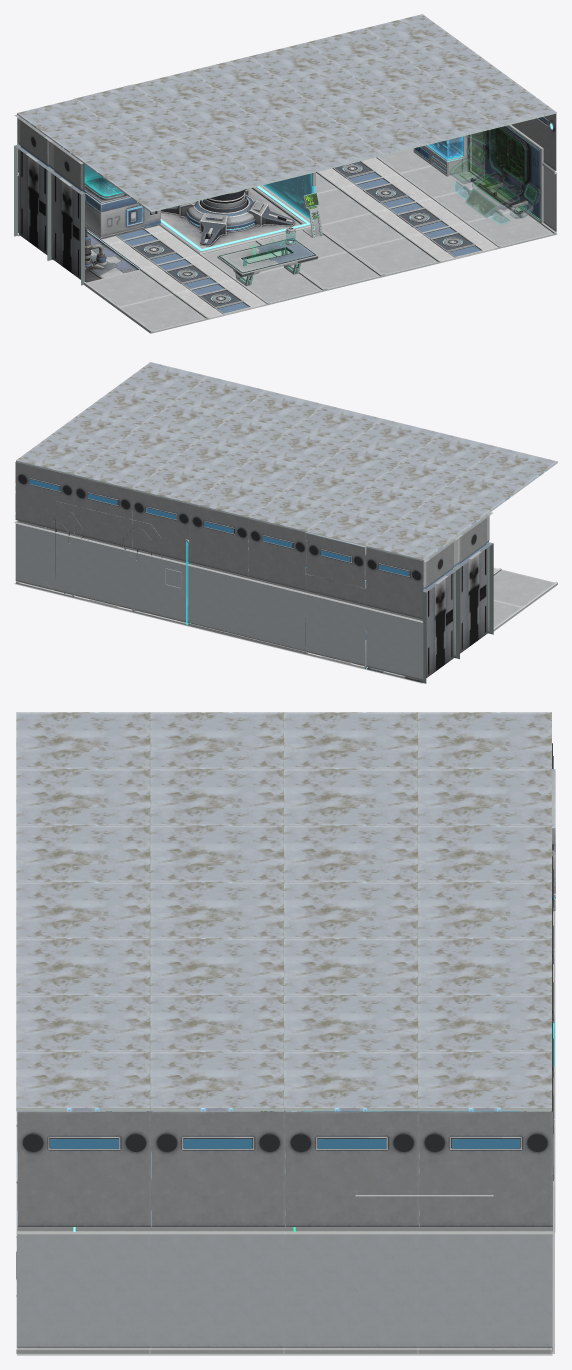
File: sci-fi_lab.glb
3 renders of one model, top to bottom at view 1: azimuth 30°, elevation 25°; view 2: azimuth 150°, elevation 25°; view 3: azimuth 270°, elevation 25°, orthographic. The views are drawn at different scales.
Visible parts, largest first — view 1: Object_15, Object_29, Object_4, Object_8, Object_3, Object_2, Object_11, Object_18, Object_12, Object_14, Object_5, Object_16 (+7 smaller); view 2: Object_15, Object_27, Object_30, Object_8, Object_29, Object_5, Object_18, Object_9, Object_12; view 3: Object_15, Object_27, Object_30, Object_29.
Boxes of the visible parts, x1,y1,x2,y2 form: Object_15: (17,14,556,212); Object_29: (84,148,556,333); Object_4: (87,157,498,319); Object_8: (14,144,140,285); Object_3: (449,126,540,224); Object_2: (470,124,543,223); Object_11: (161,189,294,246); Object_18: (73,84,160,239); Object_12: (159,185,310,254); Object_14: (217,238,318,286); Object_5: (14,114,85,193); Object_16: (413,134,471,176); Object_15: (16,362,557,561); Object_27: (14,462,423,622); Object_30: (14,523,423,683); Object_8: (365,542,493,683); Object_29: (16,568,557,631); Object_5: (423,512,492,590); Object_18: (305,531,366,666); Object_9: (45,502,181,612); Object_12: (190,623,307,654); Object_15: (16,712,551,1111); Object_27: (17,743,555,1234); Object_30: (17,1232,554,1355); Object_29: (16,1111,551,1353).
Size of the model in its own units: 14.16 by 4.05 by 8.06.
Materials: 28 (24 with a texture image).
